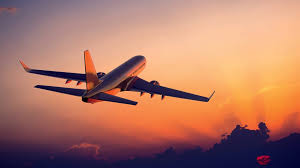maybay_dansu: (21, 46, 210, 108)
